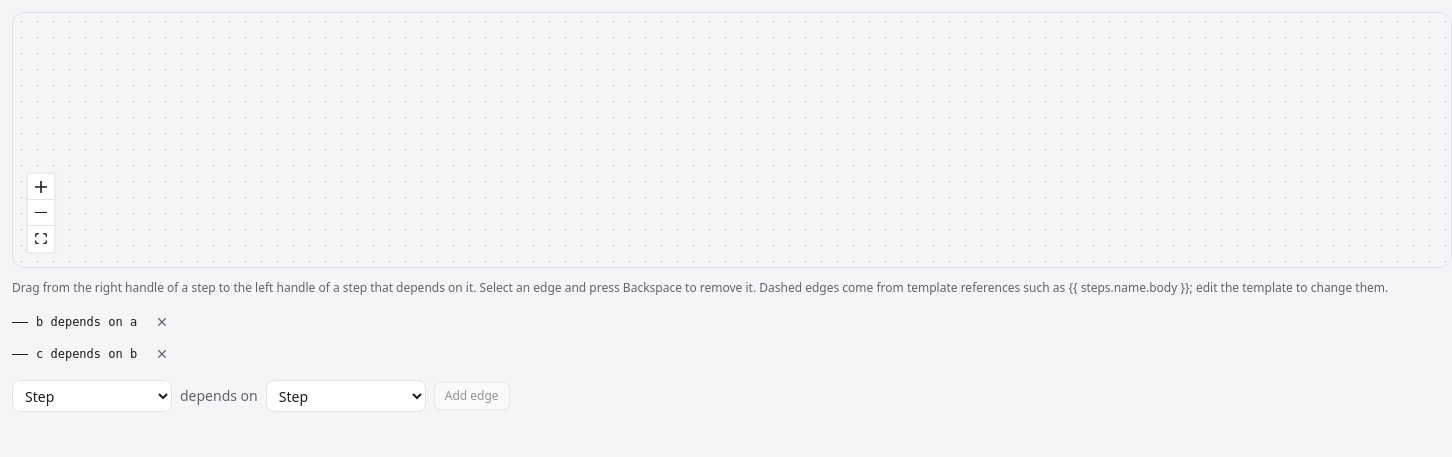
Test: the step graph › refuses an edge that makes a cycle
Select "a" in the 1st dropdown named "Step" at (92, 396), box [12,380,172,412]
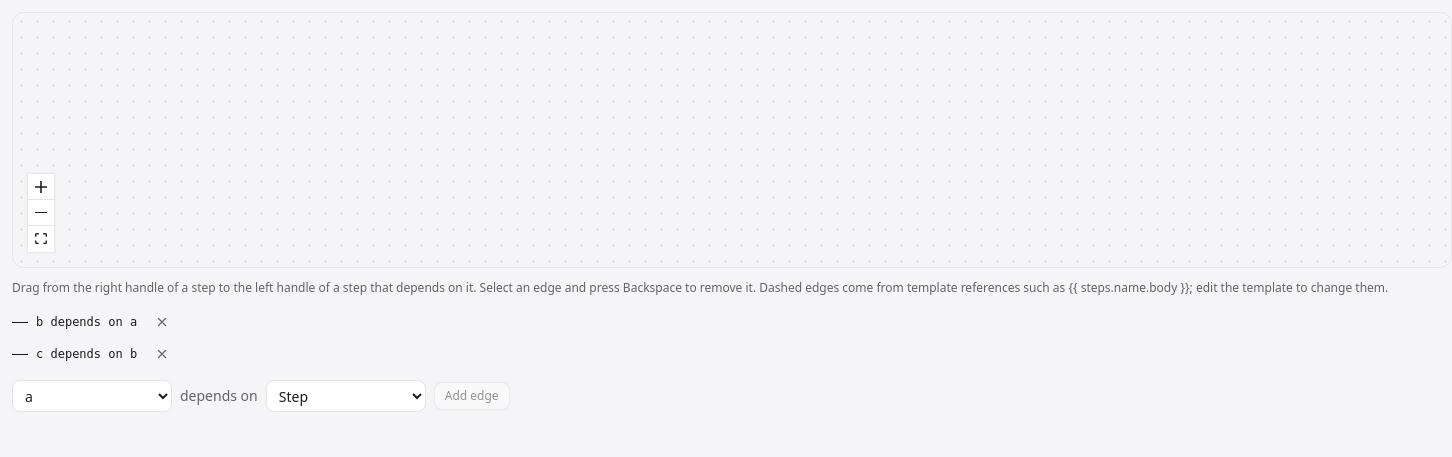
Select "c" in the 2nd dropdown named "Depends on" at (346, 396), box [266,380,426,412]
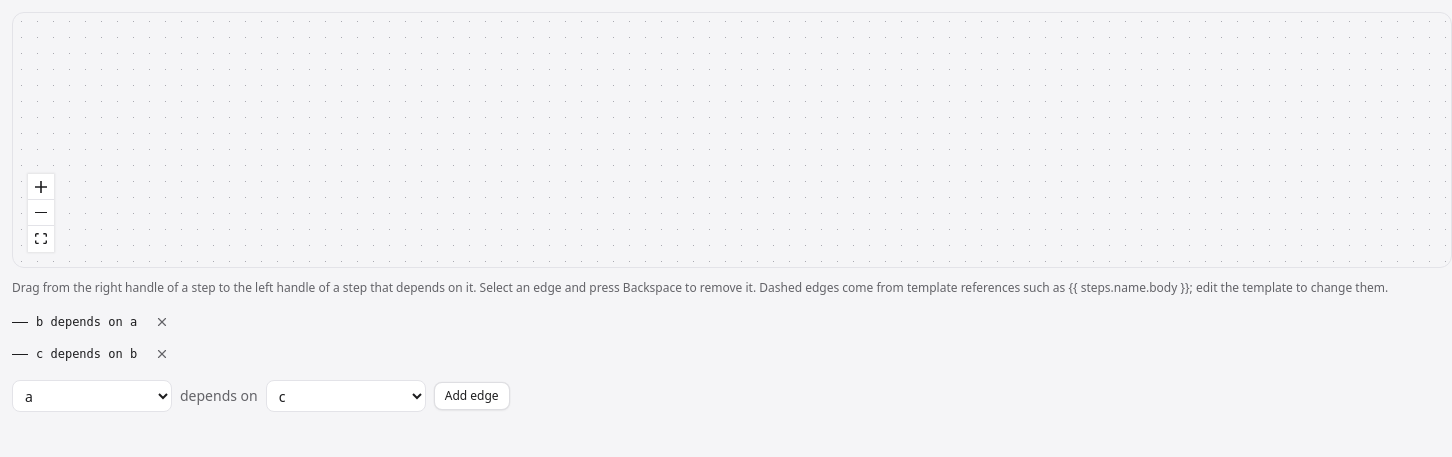
Click the button "Add edge".
click(472, 396)  # box [434,382,510,410]
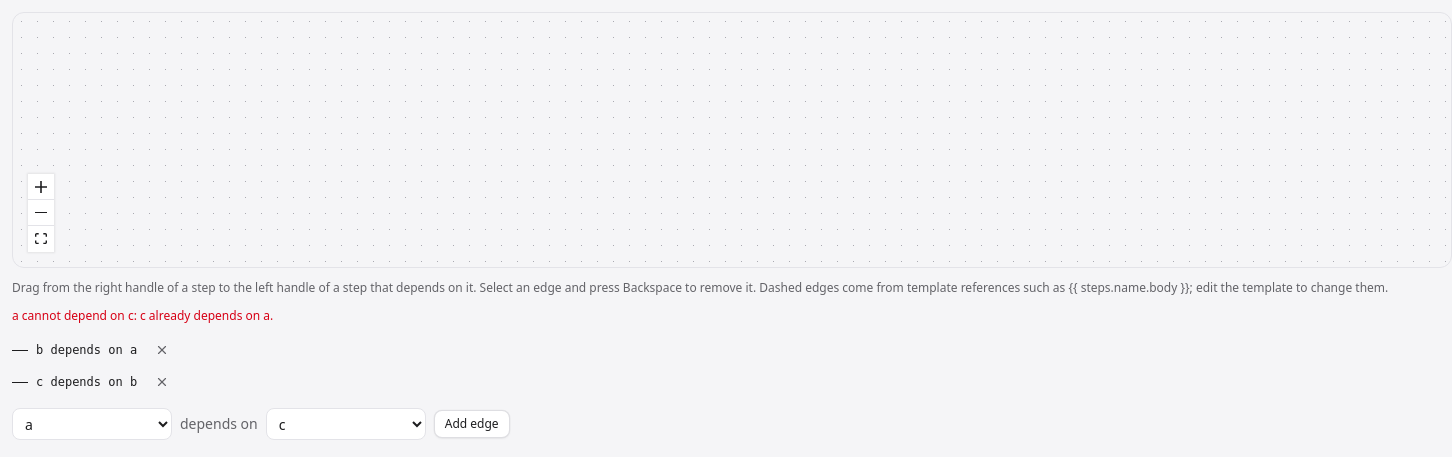
Expected: the message reads "a cannot depend on c: c already depends on a.", [12,307,273,324]
